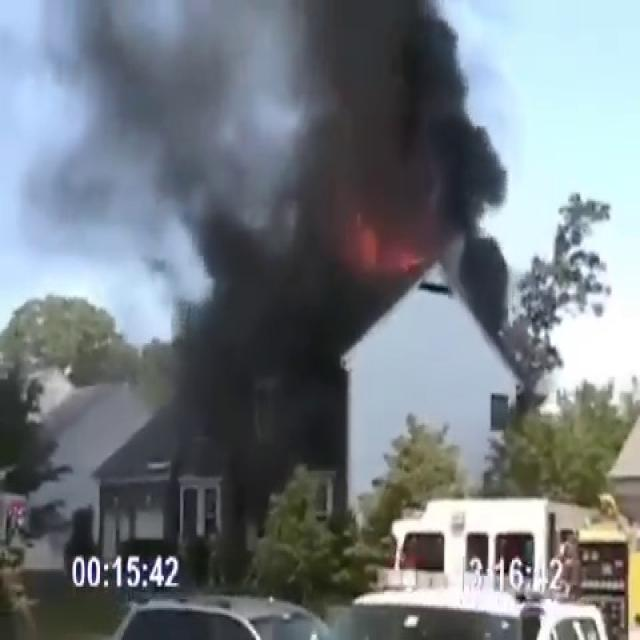Smoke: (4, 0, 518, 412)
